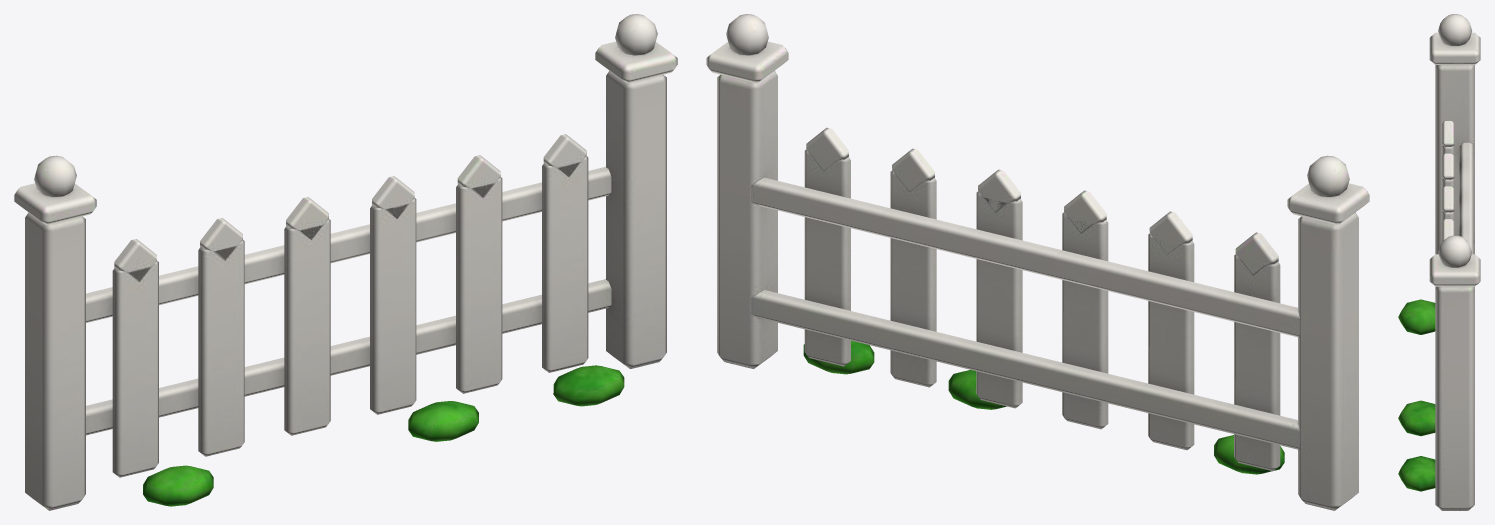
The model's file is picket_fence.glb.
3 views of the same model, side by side, from view 1: azimuth 30°, elevation 25°; view 2: azimuth 150°, elevation 25°; view 3: azimuth 270°, elevation 25° (orthographic). The views are drawn at different scales.
Visible parts, largest first — view 1: picket_fence; view 2: picket_fence; view 3: picket_fence.
Boxes of the visible parts, x1=… form: picket_fence: x1=14, y1=14, x2=677, y2=510; picket_fence: x1=706, y1=14, x2=1369, y2=510; picket_fence: x1=1398, y1=14, x2=1480, y2=510.
Size of the model in its own units: 1.01 by 0.534 by 0.145.
Materials: 1 (1 with a texture image).
